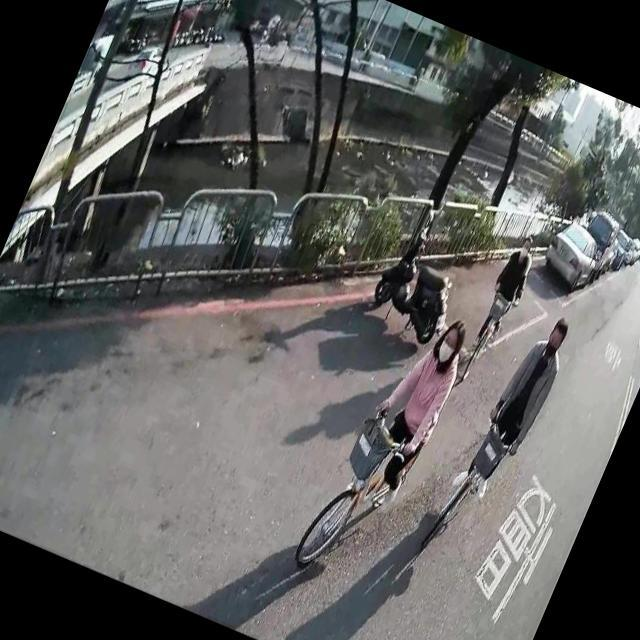person: (336, 299, 479, 520), (443, 293, 582, 511), (464, 224, 546, 358)
